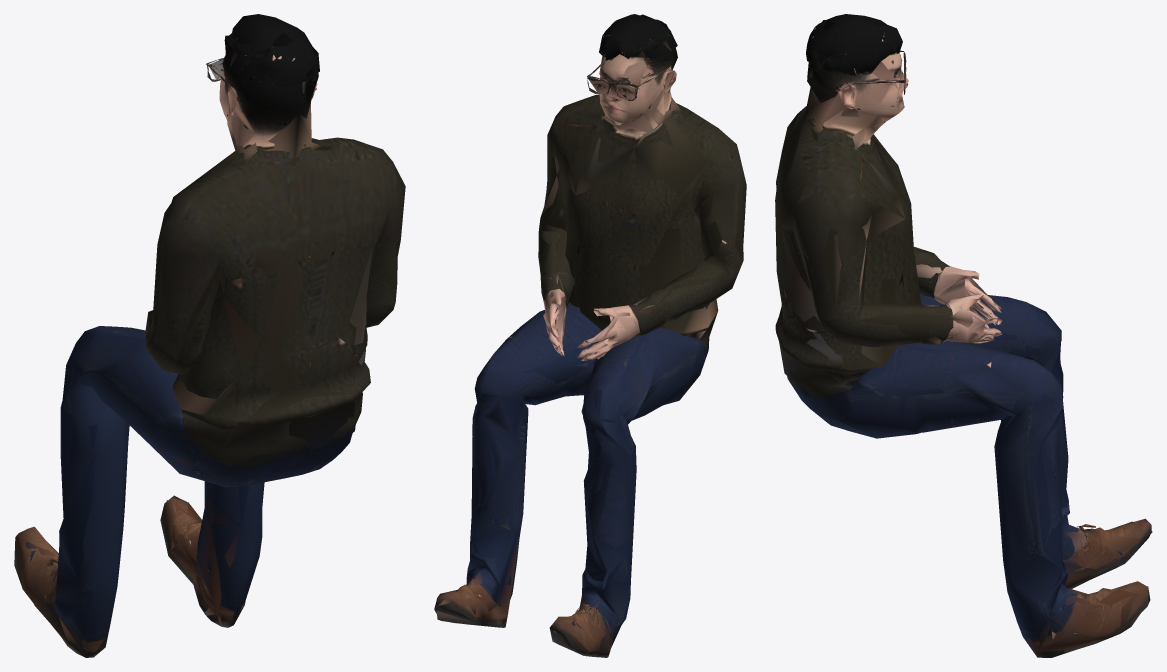
File: persona-02.glb
The picture shows the model from 3 angles, left to right: view 1: azimuth 30°, elevation 25°; view 2: azimuth 150°, elevation 25°; view 3: azimuth 270°, elevation 25°; orthographic projection. The views are drawn at different scales.
Visible parts, largest first — view 1: cerca, lejos; view 2: cerca, lejos; view 3: cerca, lejos.
Boxes of the visible parts, left/top/right/bottom form: cerca: left=14, top=14, right=405, bottom=657; lejos: left=25, top=32, right=396, bottom=656; cerca: left=434, top=14, right=746, bottom=657; lejos: left=436, top=14, right=743, bottom=653; cerca: left=775, top=14, right=1151, bottom=657; lejos: left=776, top=20, right=1152, bottom=657.
Size of the model in its own units: 0.533 by 1.45 by 0.8147.
2 materials, 1 textured.
